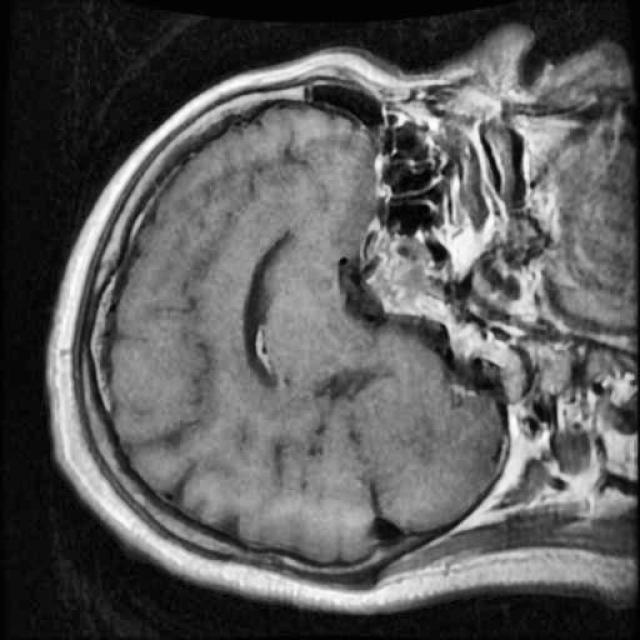Tumor: (348, 208, 460, 340)
